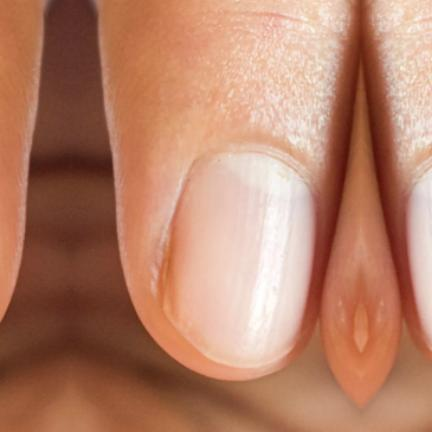Nail: (162, 150, 316, 367), (406, 165, 432, 354)
